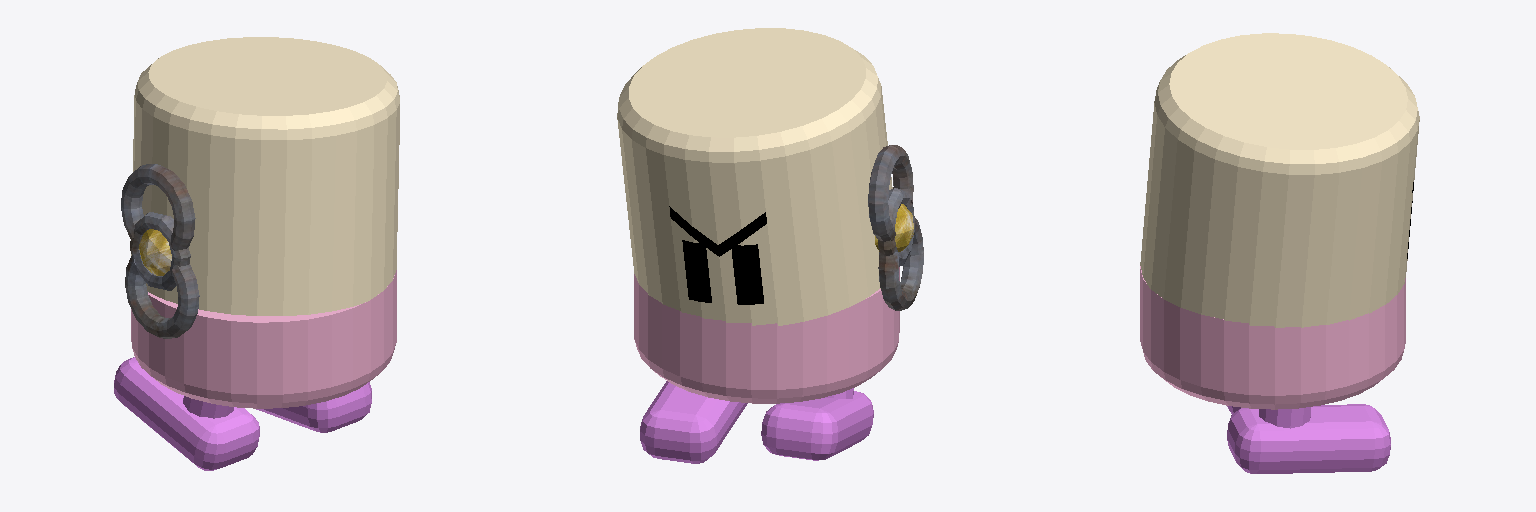
The picture shows the model from 3 angles: view 1: azimuth 30°, elevation 25°; view 2: azimuth 150°, elevation 25°; view 3: azimuth 270°, elevation 25°; orthographic projection.
Parts seen in each view (by area): view 1: Head, Jaw, WindupKey, LeftLeg, RightLeg; view 2: Head, Jaw, WindupKey, LeftLeg, RightLeg; view 3: Head, Jaw, RightLeg.
Boxes of the visible parts, box(x1,y1,x2,y2) form: Head: box(131, 37, 399, 315); Jaw: box(131, 270, 396, 408); WindupKey: box(121, 164, 199, 338); LeftLeg: box(114, 357, 259, 470); RightLeg: box(256, 382, 371, 432); Head: box(617, 28, 892, 325); Jaw: box(634, 267, 899, 403); WindupKey: box(868, 145, 923, 310); LeftLeg: box(761, 388, 873, 460); RightLeg: box(640, 381, 747, 463); Head: box(1140, 33, 1419, 327); Jaw: box(1140, 266, 1405, 409); RightLeg: box(1227, 404, 1390, 473).
Size of the model in its own units: 113 by 152 by 105.
6 materials, 2 textured.